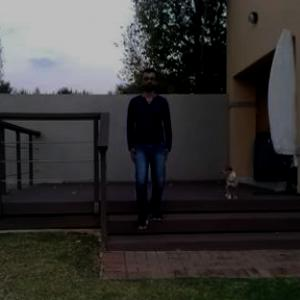follow: (125, 70, 165, 226)
